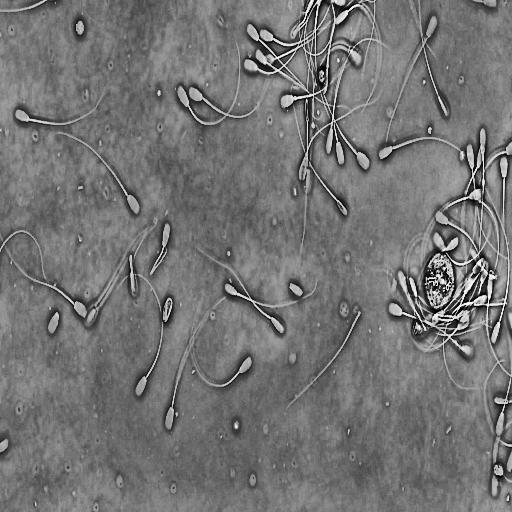coiled-tail: (407, 295, 426, 331), (161, 291, 176, 325), (162, 297, 173, 322)
dirt-particles: (422, 245, 457, 313), (72, 15, 86, 39)
folded-tail: (129, 220, 158, 290), (127, 214, 158, 274), (150, 247, 166, 281), (150, 245, 167, 275), (132, 268, 136, 287)
loose-head: (45, 307, 62, 340), (286, 278, 304, 303)
loose-tail: (281, 305, 364, 418), (0, 225, 49, 283)
normal: (245, 21, 355, 117), (161, 293, 228, 440), (190, 241, 287, 341), (43, 129, 142, 221), (298, 84, 386, 183), (381, 12, 440, 159), (289, 81, 351, 220), (0, 229, 92, 321), (324, 35, 391, 156), (171, 32, 243, 134), (187, 290, 254, 394), (278, 35, 366, 114), (116, 271, 165, 402), (465, 140, 512, 266), (479, 173, 511, 345), (317, 77, 372, 174), (376, 133, 482, 179), (441, 292, 489, 392), (13, 79, 108, 128), (254, 46, 327, 103), (242, 12, 306, 76), (223, 270, 319, 311), (186, 79, 271, 121), (258, 1, 333, 48), (433, 211, 494, 267), (387, 300, 493, 332), (126, 215, 159, 301), (433, 207, 482, 263), (297, 93, 312, 266), (332, 46, 351, 169), (398, 269, 428, 334), (147, 219, 174, 279), (477, 123, 488, 263)
proximal-droplet: (293, 95, 298, 101)
